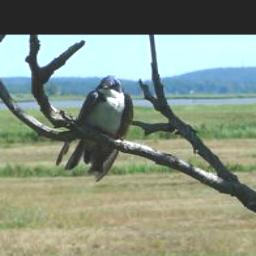Swallow: (52, 72, 137, 184)
